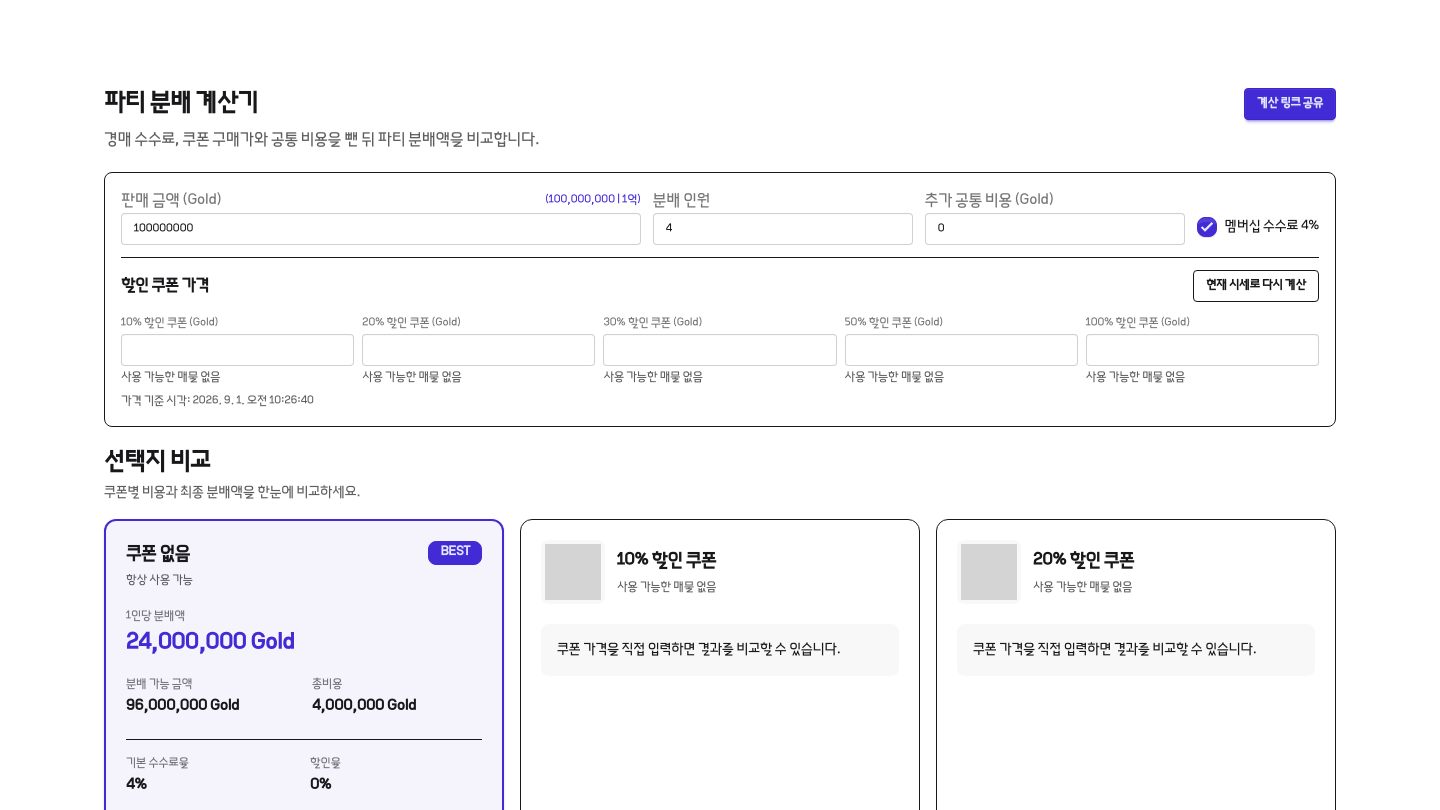
Test: auction calculator page › aborts an older refresh and commits only the newer snapshot
Click the button "현재 시세로 다시 계산" at x=1256, y=286, box [1193,270,1319,302]
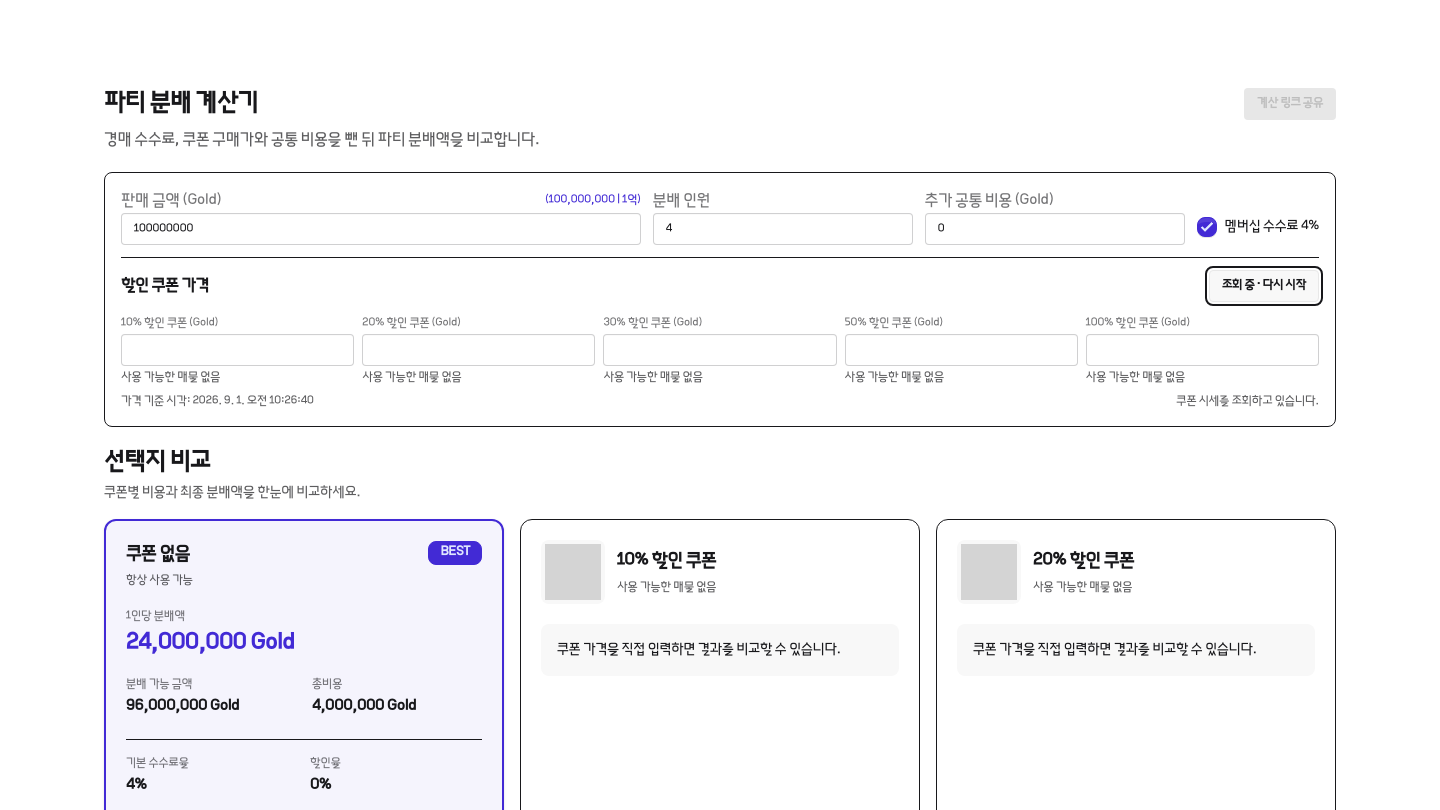
Click the button "조회 중 · 다시 시작" at x=1264, y=286, box [1209,270,1319,302]
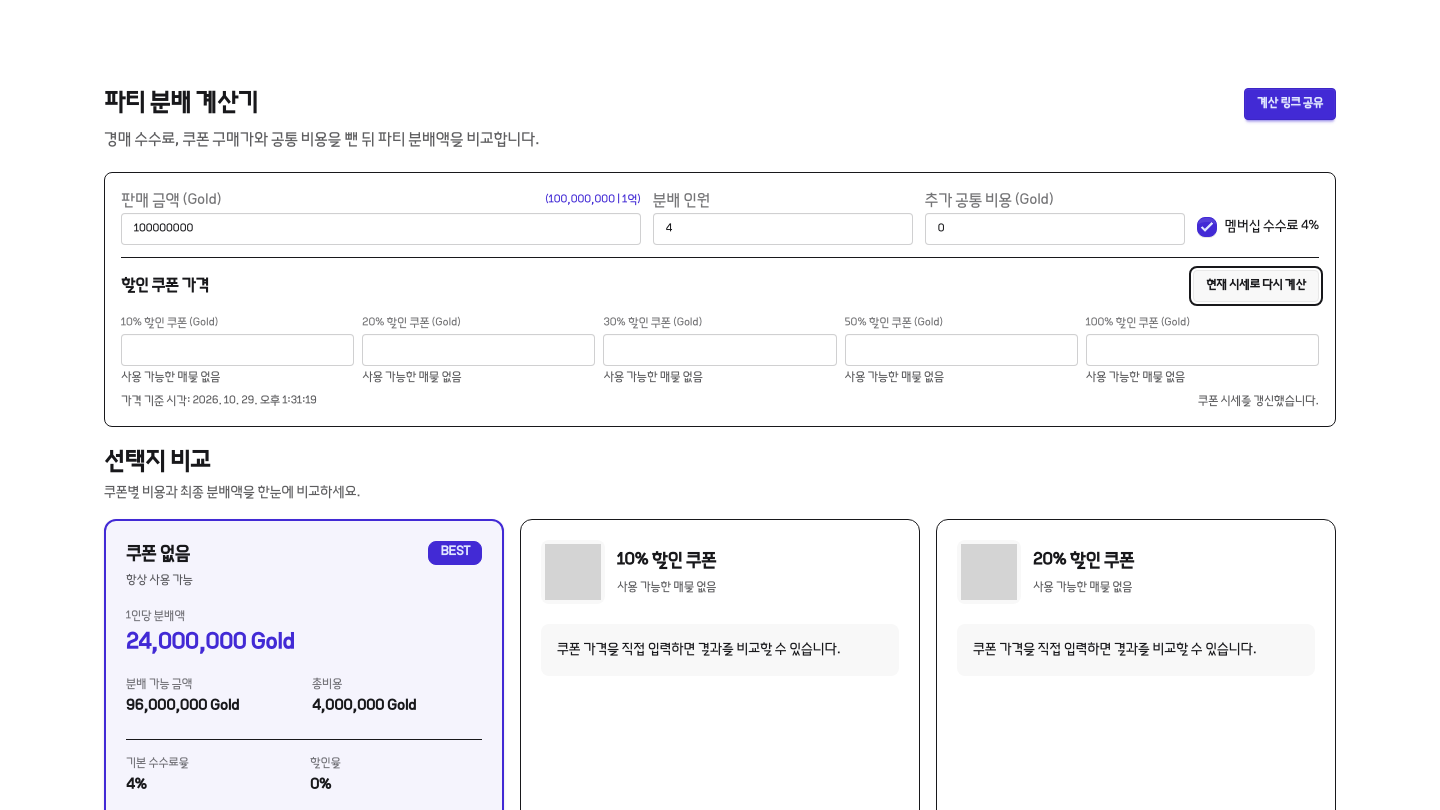
Expected: the text "쿠폰 시세를 갱신했습니다." is shown, [1198,394,1319,410]
